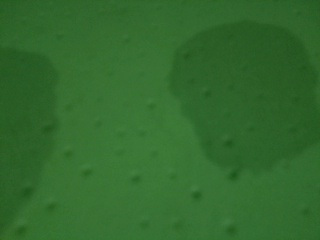Water_detected: (0, 71, 95, 240), (198, 48, 286, 150)
